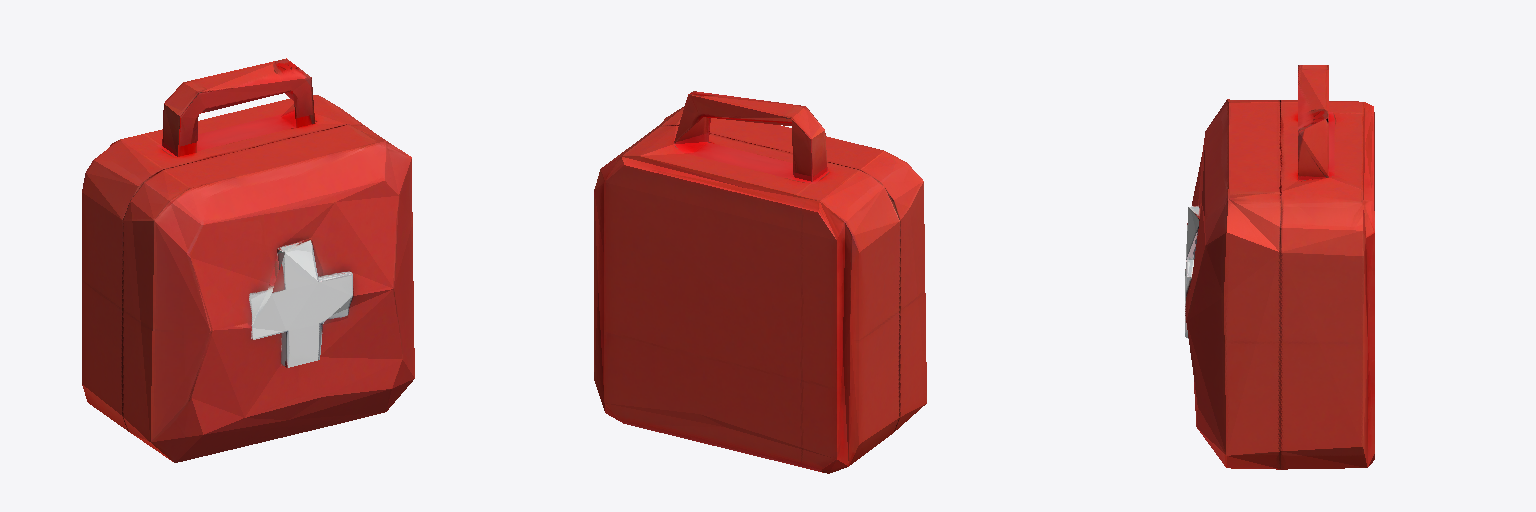
3 renders of one model, left to right at view 1: azimuth 30°, elevation 25°; view 2: azimuth 150°, elevation 25°; view 3: azimuth 270°, elevation 25°, orthographic.
Visible parts, largest first — view 1: a_low_poly_health_pac_[number redacted]_texture; view 2: a_low_poly_health_pac_[number redacted]_texture; view 3: a_low_poly_health_pac_[number redacted]_texture.
Part boxes in pixels (x1,y1,x2,y2): a_low_poly_health_pac_[number redacted]_texture: (82,58,414,462); a_low_poly_health_pac_[number redacted]_texture: (594,91,926,473); a_low_poly_health_pac_[number redacted]_texture: (1185,65,1374,469).
Bounding box in the file's own units: 1.65 × 2 × 1.03.
Materials: 1 (1 with a texture image).